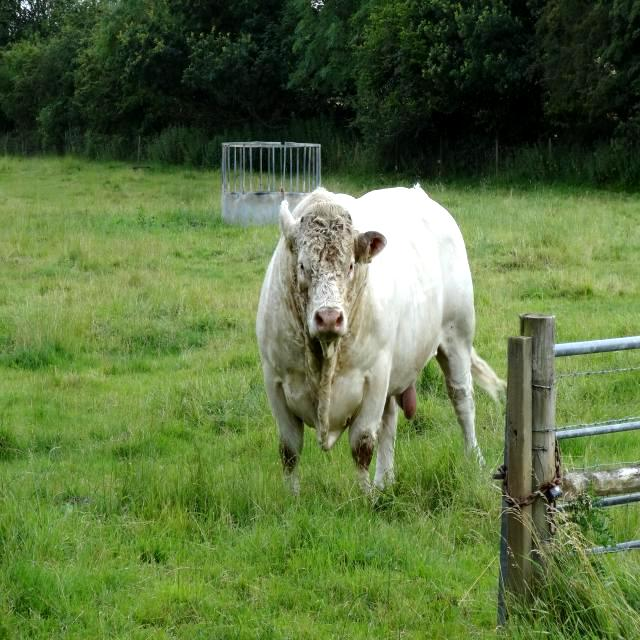COW: (256, 187, 504, 493)
